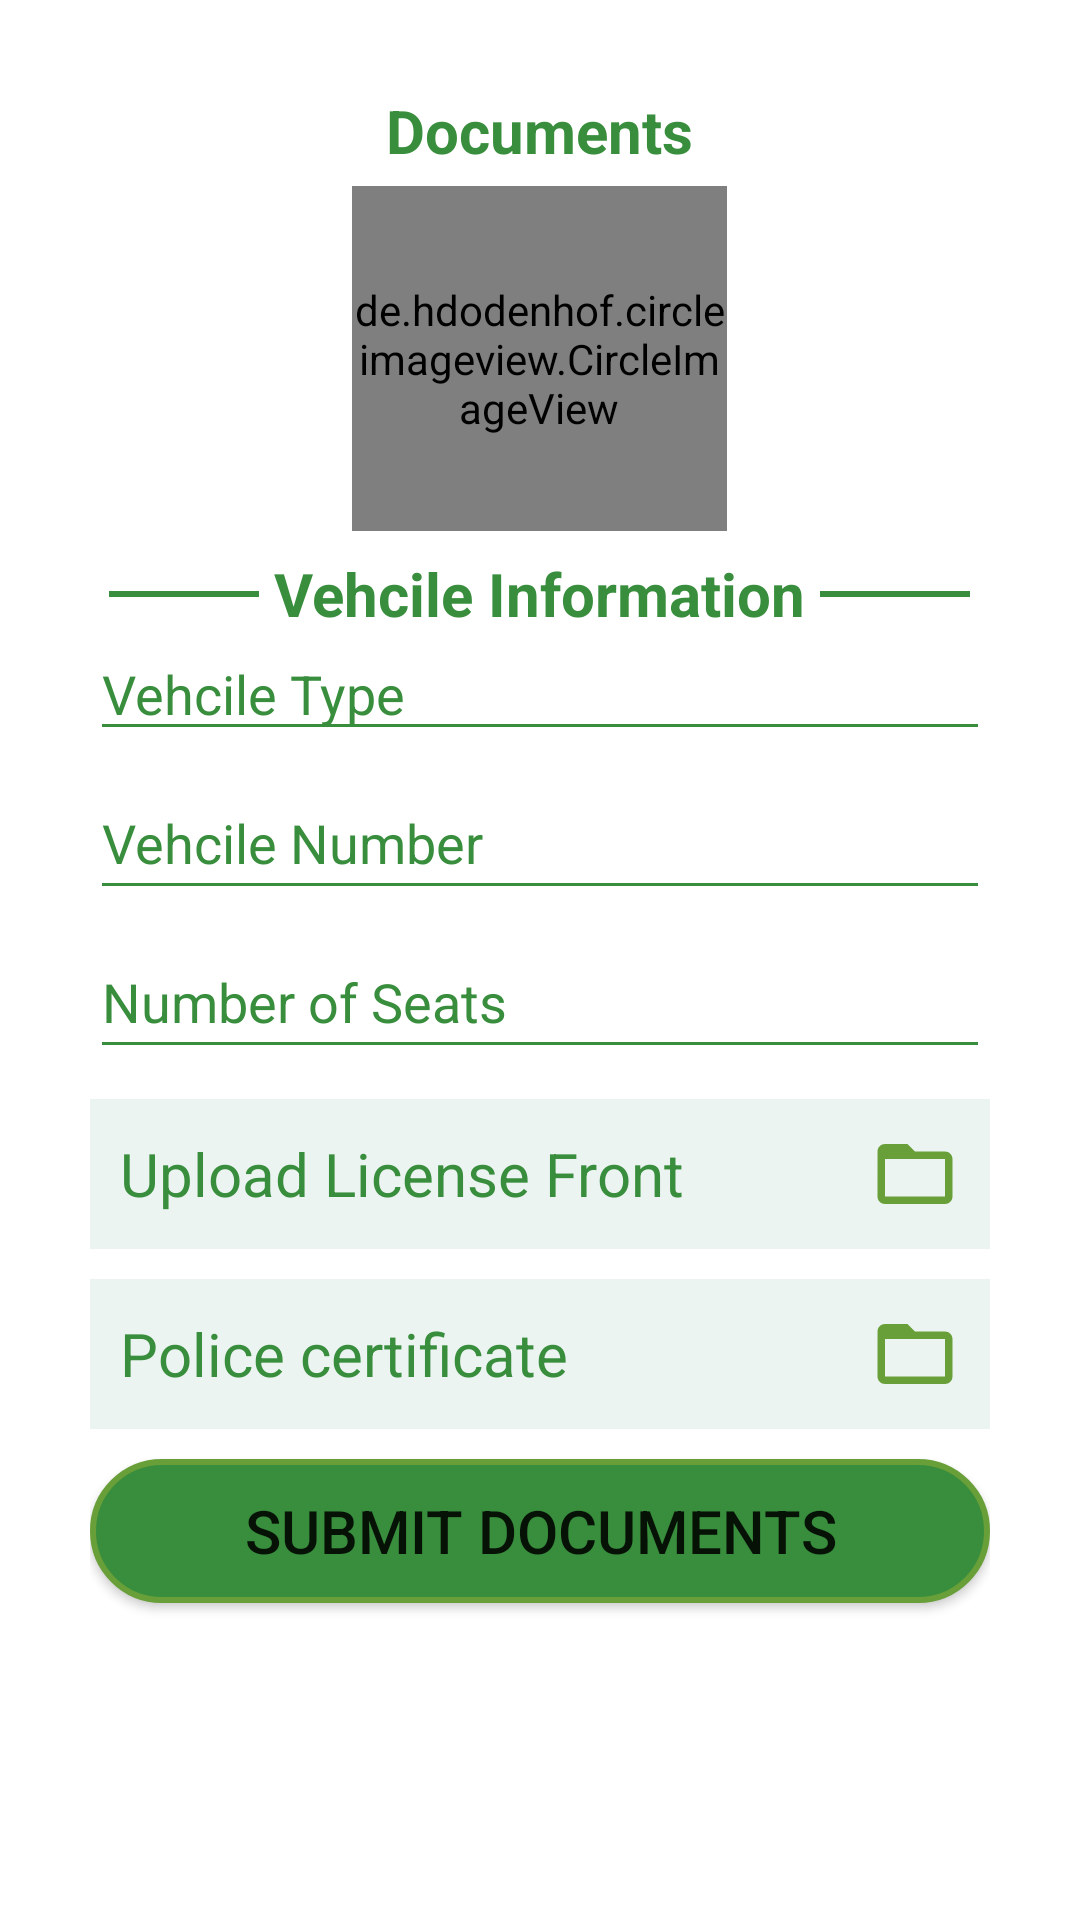

Icon click points for this 1080*1920 phone screenshot, format [x,y]:
folder: [915,1174], [915,1354]
